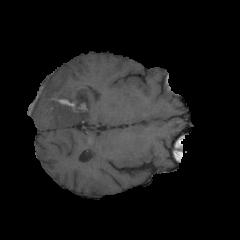glioma: (29, 75, 102, 130)
